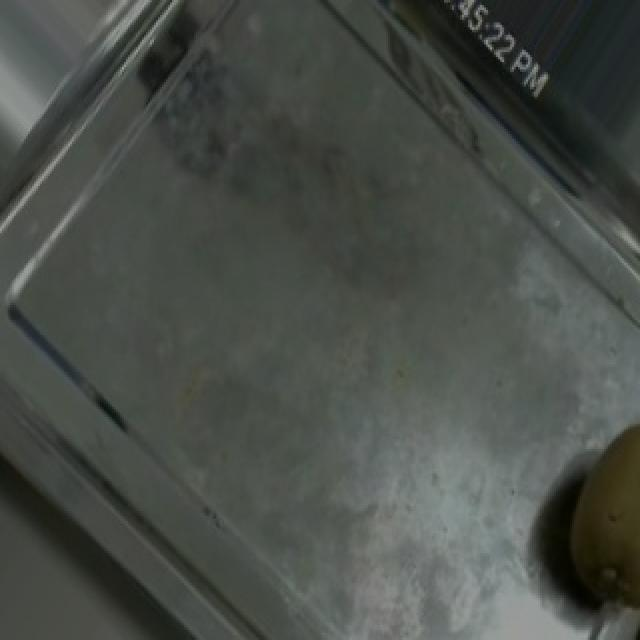Fruit: (520, 400, 640, 638)
